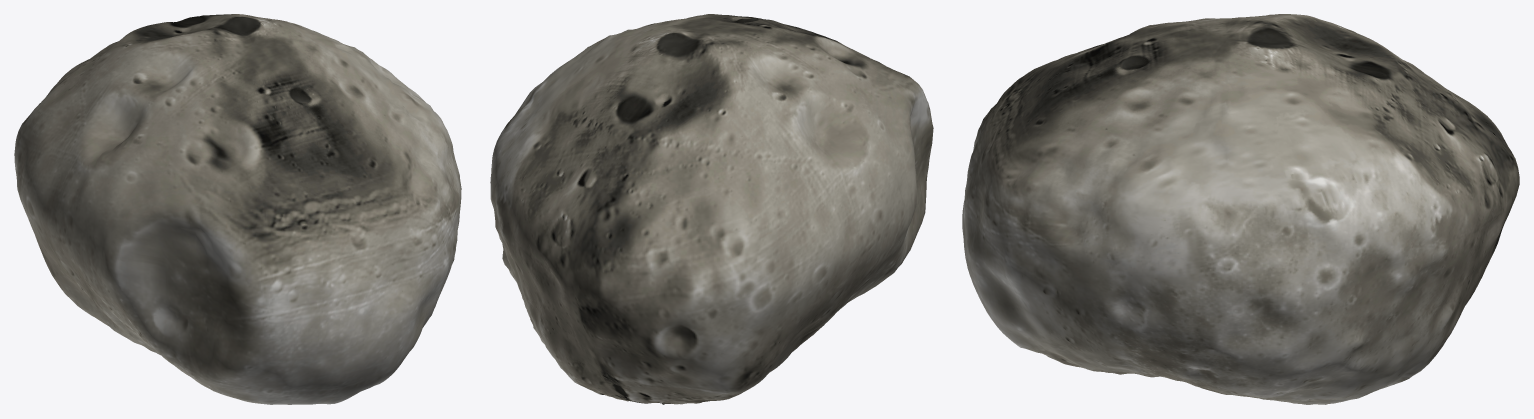
File: phobos.glb
The picture shows the model from 3 angles, left to right: view 1: azimuth 30°, elevation 25°; view 2: azimuth 150°, elevation 25°; view 3: azimuth 270°, elevation 25°; orthographic projection. The views are drawn at different scales.
Visible parts, largest first — view 1: phobos; view 2: phobos; view 3: phobos.
Part boxes in pixels (<box>): phobos: <box>14,14,461,404</box>; phobos: <box>490,14,933,404</box>; phobos: <box>962,14,1519,404</box>.
Size of the model in its own units: 21 by 18.4 by 26.8.
1 material, 1 textured.
